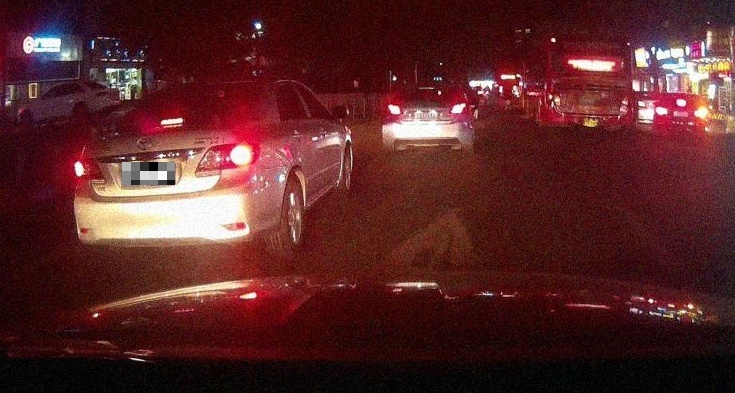L_light: (75, 156, 106, 184), (549, 80, 559, 111), (387, 104, 400, 115), (656, 107, 667, 115)
R_light: (193, 141, 259, 177), (619, 82, 630, 114), (450, 103, 466, 113), (694, 110, 706, 117)
T_light: (160, 118, 182, 125), (581, 65, 604, 70), (677, 100, 687, 105), (419, 87, 434, 90)
night-brake: (74, 78, 267, 275)
night-no: (544, 31, 634, 134), (382, 82, 468, 154)
night-right: (654, 92, 708, 138)
plate_1: (122, 162, 175, 185)
